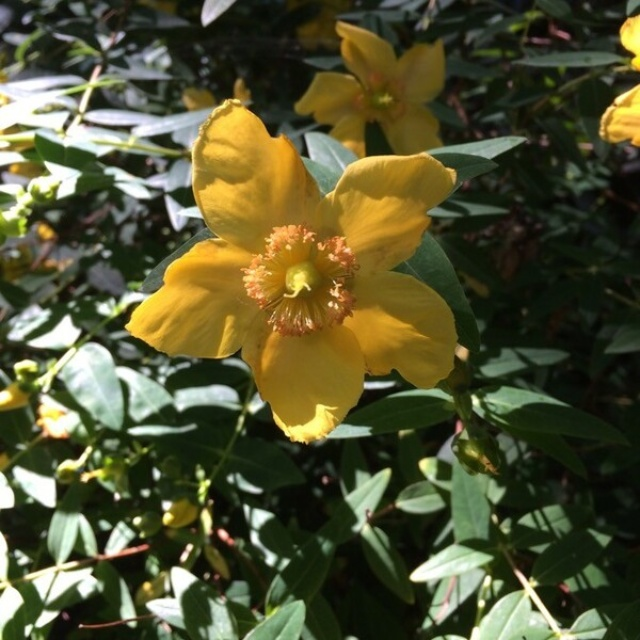obstacle: (122, 83, 510, 521)
